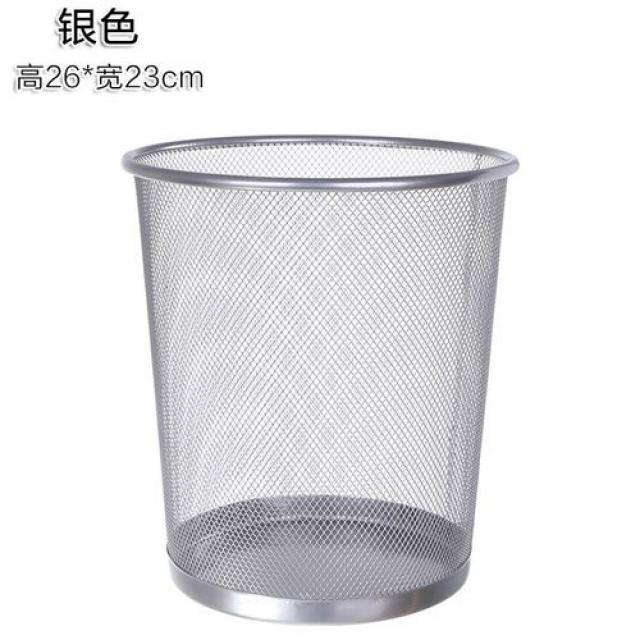Dustbin: (115, 125, 527, 634)
